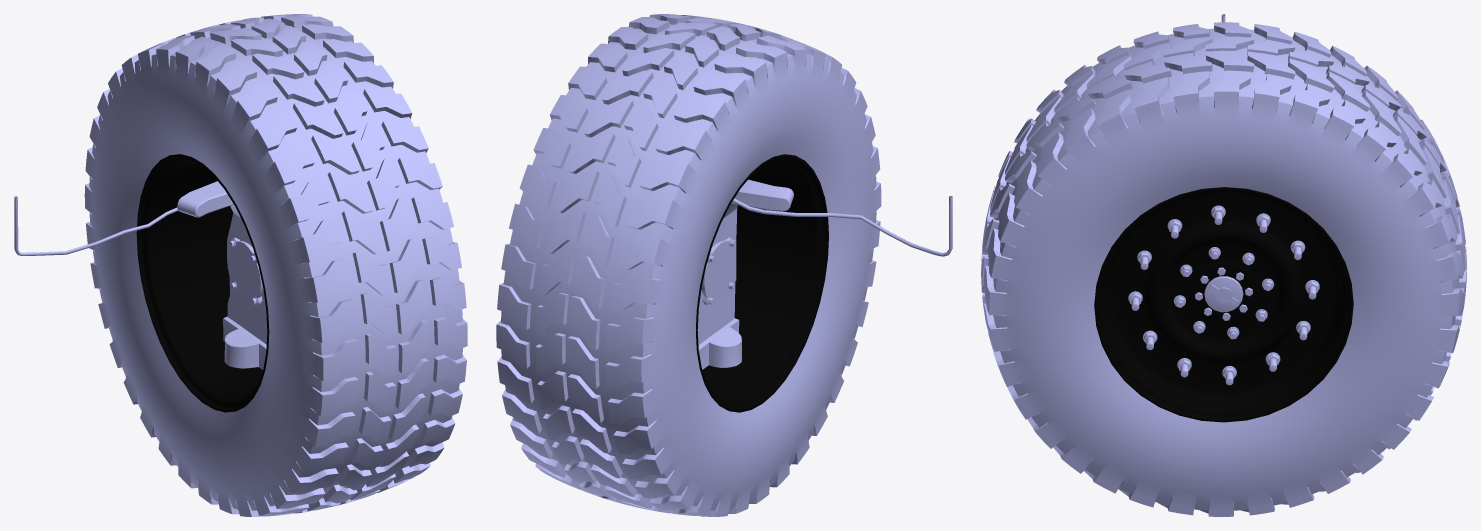
Rendered from wheel_BL.fbx.
3 renders of one model, left to right at view 1: azimuth 30°, elevation 25°; view 2: azimuth 150°, elevation 25°; view 3: azimuth 270°, elevation 25°, orthographic. The views are drawn at different scales.
Parts seen in each view (by area): view 1: wheel002, brake002, brake_hose002; view 2: wheel002, brake002, brake_hose002; view 3: wheel002.
Boxes of the visible parts, <box> form: wheel002: <box>84,14,467,516</box>; brake002: <box>177,181,267,369</box>; brake_hose002: <box>14,196,178,255</box>; wheel002: <box>496,14,881,516</box>; brake002: <box>697,179,793,369</box>; brake_hose002: <box>732,196,952,256</box>; wheel002: <box>981,22,1466,516</box>.
Bounding box in the file's own units: 75.07 × 94.15 × 94.16.
